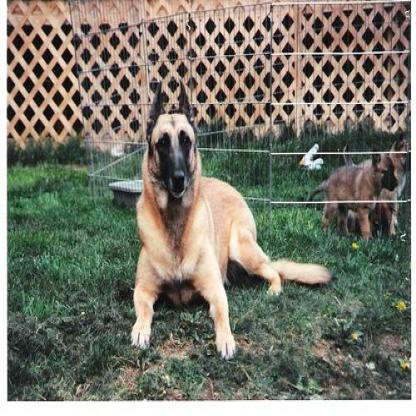malinois: (127, 75, 333, 360), (300, 140, 396, 244)
